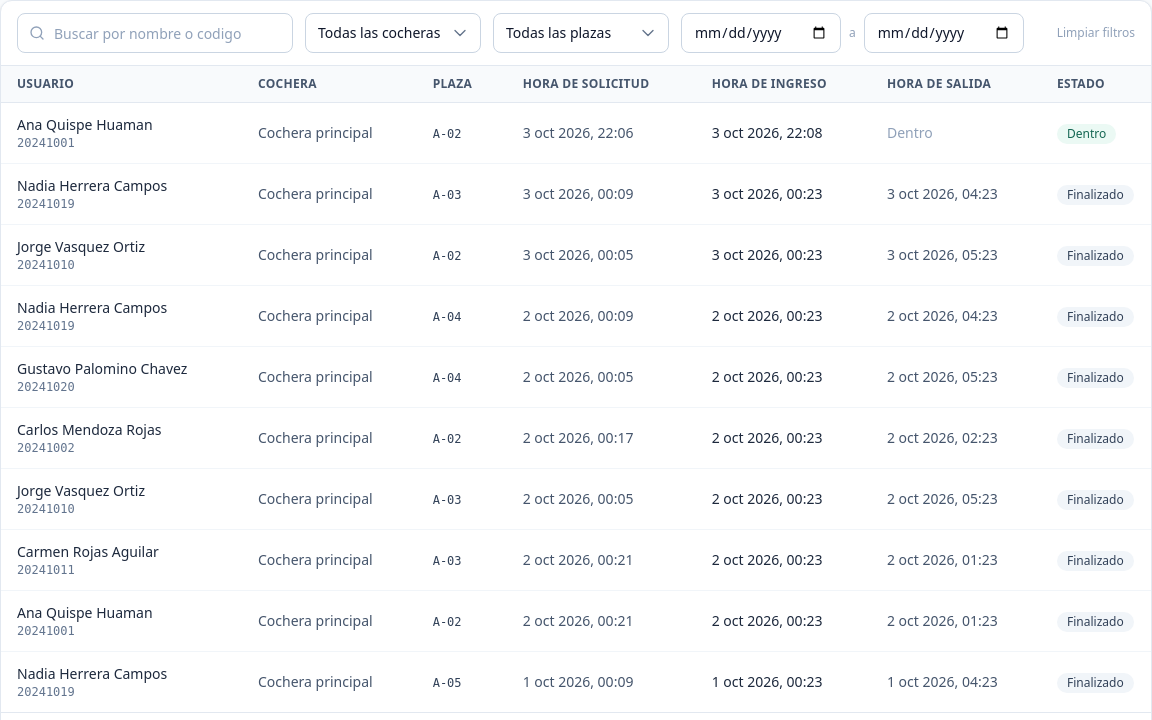
Test case: AccesosPage (RFA07) › filtra por plaza y solo deja filas de esa plaza
Select "A-03" in the dropdown named "Filtrar por plaza" at {"x": 581, "y": 33}, box 493,13 -> 669,53
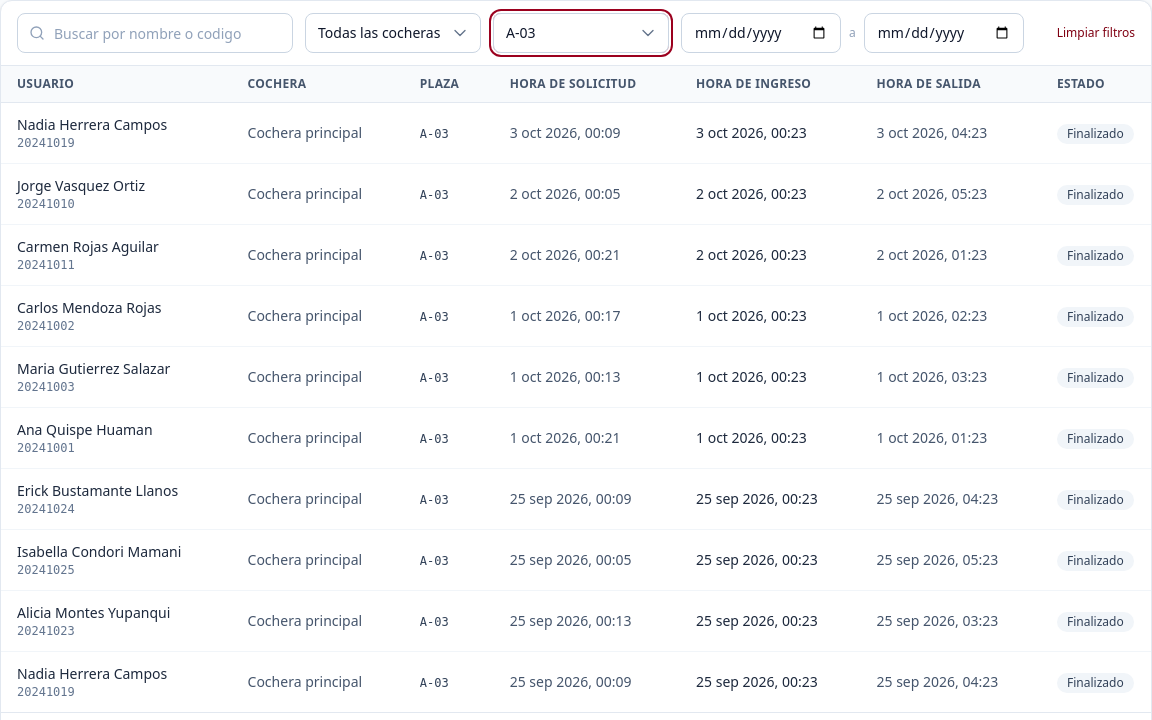
Expected: the 4th text "A-03" is shown, 420,310 -> 449,324
Expected: the 5th text "A-03" is shown, 420,371 -> 449,385
Expected: the 6th text "A-03" is shown, 420,432 -> 449,446
